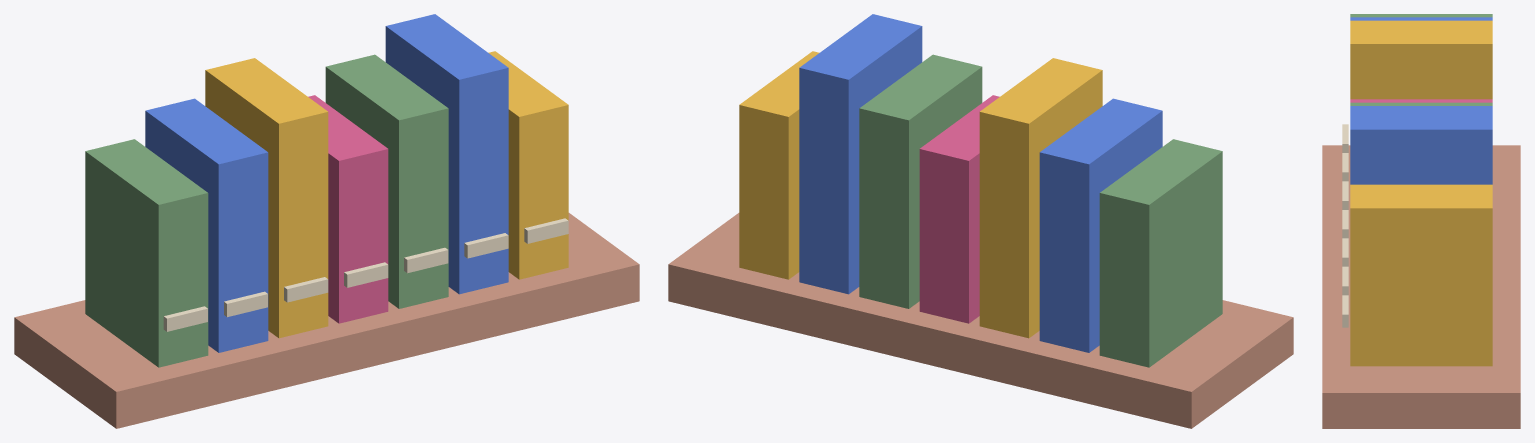
The picture shows the model from 3 angles, left to right: view 1: azimuth 30°, elevation 25°; view 2: azimuth 150°, elevation 25°; view 3: azimuth 270°, elevation 25°; orthographic projection. The views are drawn at different scales.
Visible parts, largest first — view 1: Book shelf bottom, Book cover, Book cover.005, Book cover.002, Book cover.004, Book cover.001, Book cover.006, Book cover.003, Book spine band, Book spine band.002, Book spine band.005, Book spine band.006 (+3 smaller); view 2: Book shelf bottom, Book cover, Book cover.002, Book cover.005, Book cover.001, Book cover.004, Book cover.006, Book cover.003; view 3: Book cover.006, Book shelf bottom, Book cover.002, Book cover.005, Book cover, Book cover.001, Book cover.003, Book cover.004, Book spine band.006, Book spine band.005, Book spine band, Book spine band.001 (+3 smaller).
Boxes of the visible parts, x1=… form: Book shelf bottom: x1=14, y1=213, x2=639, y2=428; Book cover: x1=85, y1=139, x2=208, y2=367; Book cover.005: x1=385, y1=14, x2=508, y2=294; Book cover.002: x1=205, y1=58, x2=328, y2=338; Book cover.004: x1=325, y1=54, x2=448, y2=308; Book cover.001: x1=145, y1=98, x2=268, y2=352; Book cover.006: x1=488, y1=51, x2=568, y2=279; Book cover.003: x1=308, y1=95, x2=388, y2=323; Book spine band: x1=163, y1=306, x2=207, y2=331; Book spine band.002: x1=284, y1=277, x2=328, y2=302; Book spine band.005: x1=464, y1=233, x2=508, y2=258; Book spine band.006: x1=524, y1=218, x2=568, y2=243; Book shelf bottom: x1=668, y1=213, x2=1293, y2=428; Book cover: x1=1099, y1=139, x2=1222, y2=367; Book cover.002: x1=979, y1=58, x2=1102, y2=338; Book cover.005: x1=799, y1=14, x2=922, y2=294; Book cover.001: x1=1039, y1=98, x2=1162, y2=352; Book cover.004: x1=859, y1=54, x2=982, y2=308; Book cover.006: x1=739, y1=51, x2=819, y2=279; Book cover.003: x1=919, y1=95, x2=999, y2=323; Book cover.006: x1=1350, y1=184, x2=1492, y2=366; Book shelf bottom: x1=1322, y1=145, x2=1520, y2=428; Book cover.002: x1=1350, y1=20, x2=1492, y2=99; Book cover.005: x1=1350, y1=106, x2=1492, y2=184; Book cover: x1=1350, y1=14, x2=1492, y2=17; Book cover.001: x1=1350, y1=17, x2=1492, y2=20; Book cover.003: x1=1350, y1=99, x2=1492, y2=102; Book cover.004: x1=1350, y1=102, x2=1492, y2=105; Book spine band.006: x1=1342, y1=295, x2=1348, y2=327; Book spine band.005: x1=1342, y1=266, x2=1348, y2=295; Book spine band: x1=1342, y1=124, x2=1348, y2=152; Book spine band.001: x1=1342, y1=153, x2=1348, y2=181.
Bounding box in the file's own units: 74 × 34 × 25.
